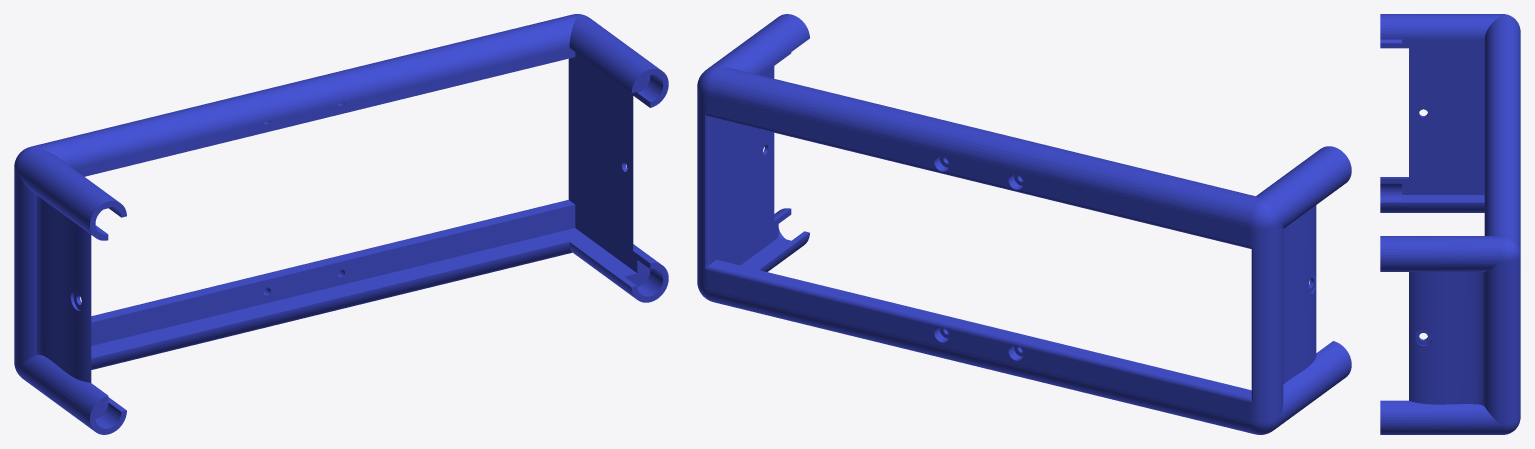
File: bottom_protector.dae
3 renders of one model, left to right at view 1: azimuth 30°, elevation 25°; view 2: azimuth 150°, elevation 25°; view 3: azimuth 270°, elevation 25°, orthographic. The views are drawn at different scales.
Visible parts, largest first — view 1: Bottom_Protector; view 2: Bottom_Protector; view 3: Bottom_Protector.
Part boxes in pixels (x1,y1,x2,y2): Bottom_Protector: (14,14,668,434); Bottom_Protector: (697,14,1351,434); Bottom_Protector: (1380,14,1520,434).
Bounding box in the file's own units: 0.156 × 0.039 × 0.06.
